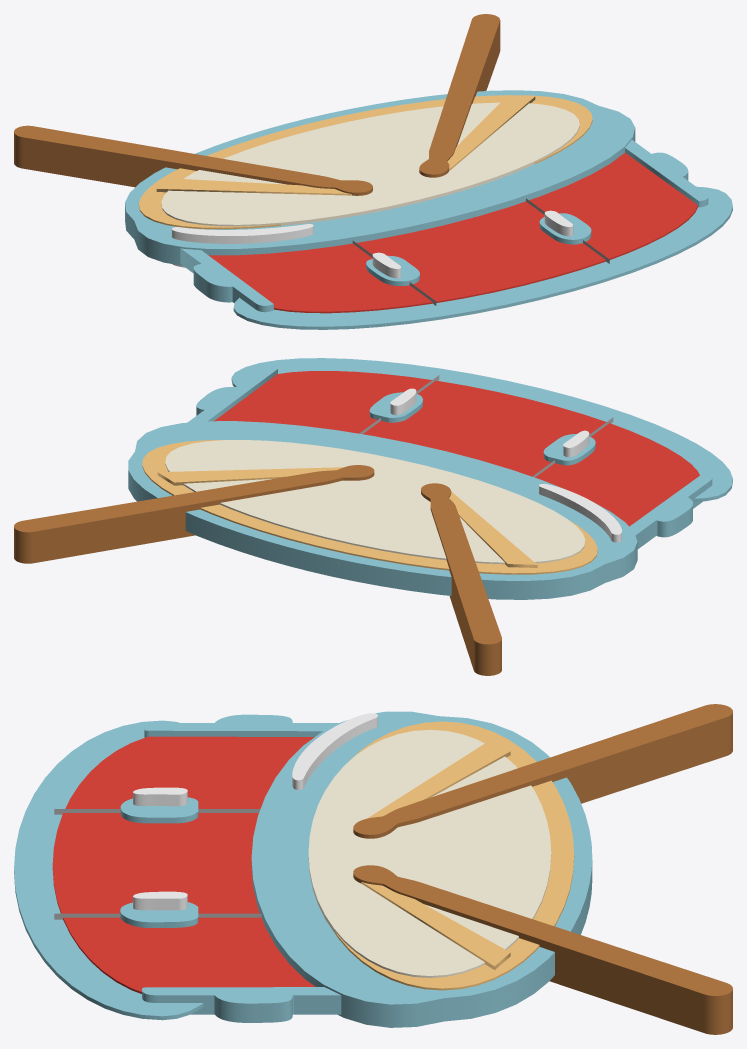
File: emoji_u1f941.glb
3 renders of one model, top to bottom at view 1: azimuth 30°, elevation 25°; view 2: azimuth 150°, elevation 25°; view 3: azimuth 270°, elevation 25°, orthographic. The views are drawn at different scales.
Visible parts, largest first — view 1: emoji_u1f941; view 2: emoji_u1f941; view 3: emoji_u1f941.
Part boxes in pixels (<box>): emoji_u1f941: <box>14,14,732,329</box>; emoji_u1f941: <box>14,358,732,675</box>; emoji_u1f941: <box>14,704,732,1034</box>.
Bounding box in the file's own units: 0.0327 × 0.0022 × 0.0335.
